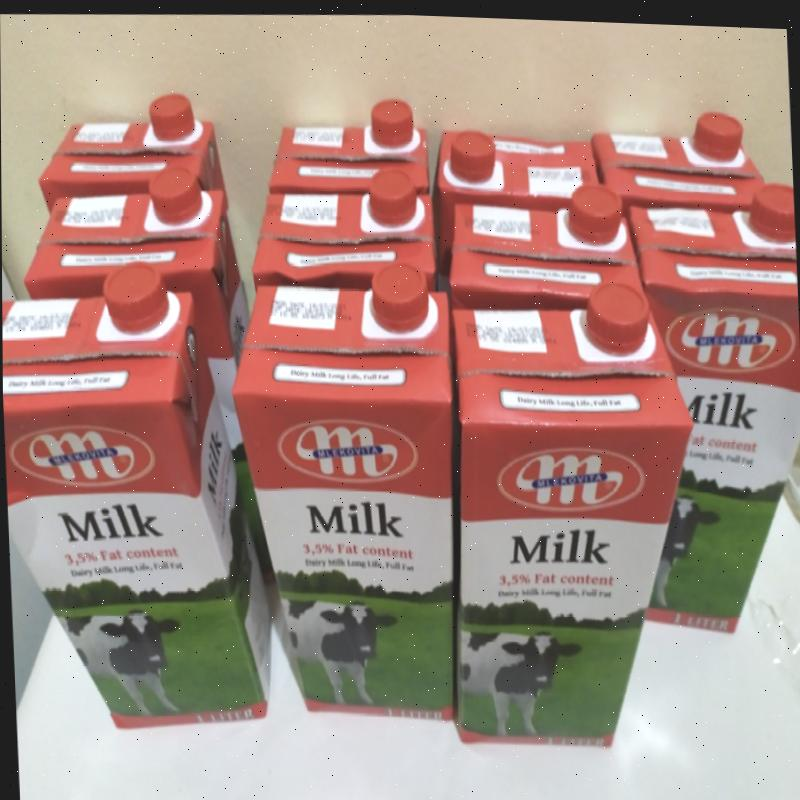uht carton: (2, 269, 269, 728), (452, 282, 693, 750), (231, 262, 459, 723), (626, 185, 800, 634), (24, 168, 249, 451), (433, 131, 599, 277), (449, 186, 642, 310), (38, 94, 224, 213), (252, 170, 434, 291), (268, 99, 429, 220), (591, 112, 765, 214)
